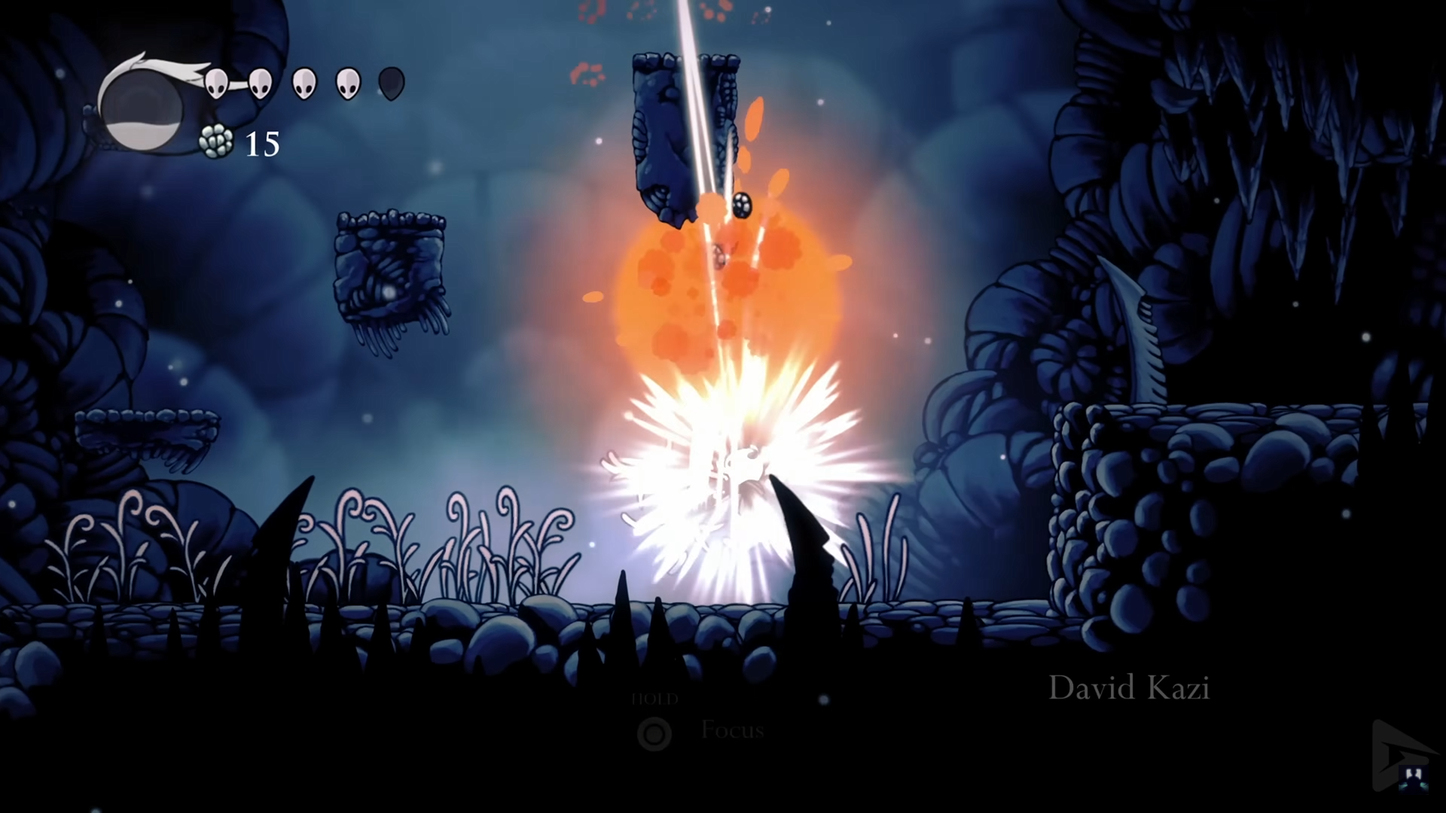HK: (714, 442, 778, 528), (699, 241, 733, 281)
